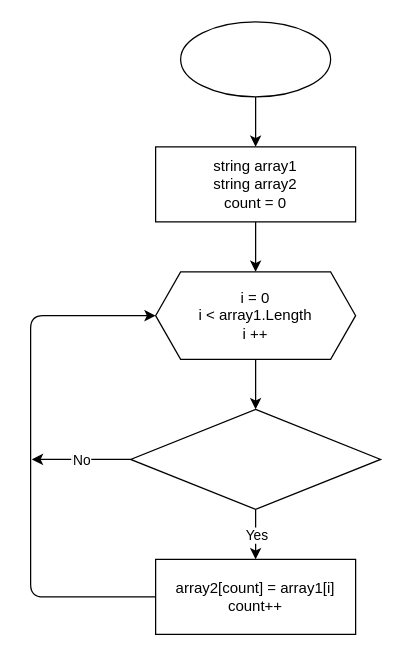
Some shapes in this 403 by 656 pixel diagram are drawn without their labels. Each missing label, with the centre of its shape:
array1[i].Length <= 3: point 255,458
Начало: point 255,59
